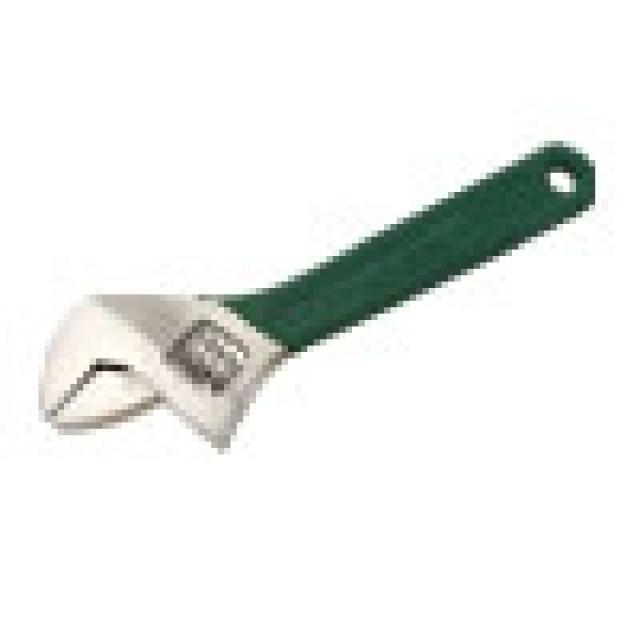wrench: (31, 136, 602, 465)
